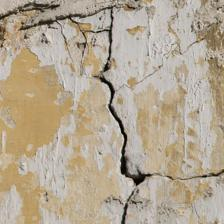Crack: (0, 0, 59, 102), (10, 40, 68, 134), (10, 13, 177, 43), (54, 3, 83, 107), (68, 64, 157, 83), (15, 34, 33, 80)
